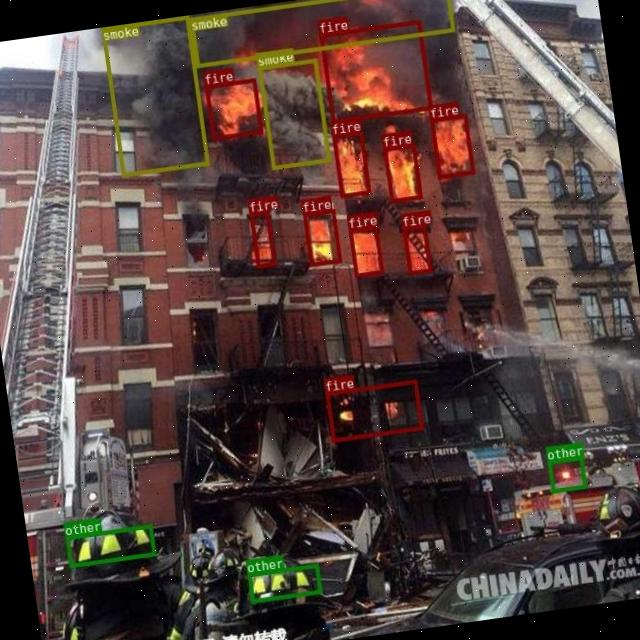fire: (319, 20, 432, 124), (325, 379, 423, 442), (206, 78, 264, 140), (429, 112, 475, 178), (332, 131, 371, 197), (383, 143, 422, 202), (303, 209, 341, 266), (348, 224, 383, 277), (250, 211, 276, 268), (403, 224, 432, 274)
smoke: (188, 0, 454, 68), (101, 15, 209, 176), (257, 58, 331, 169)
